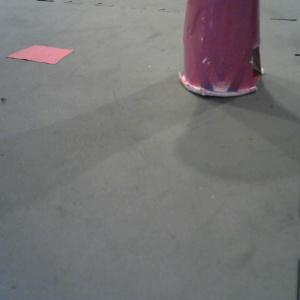right: (177, 1, 264, 97)
